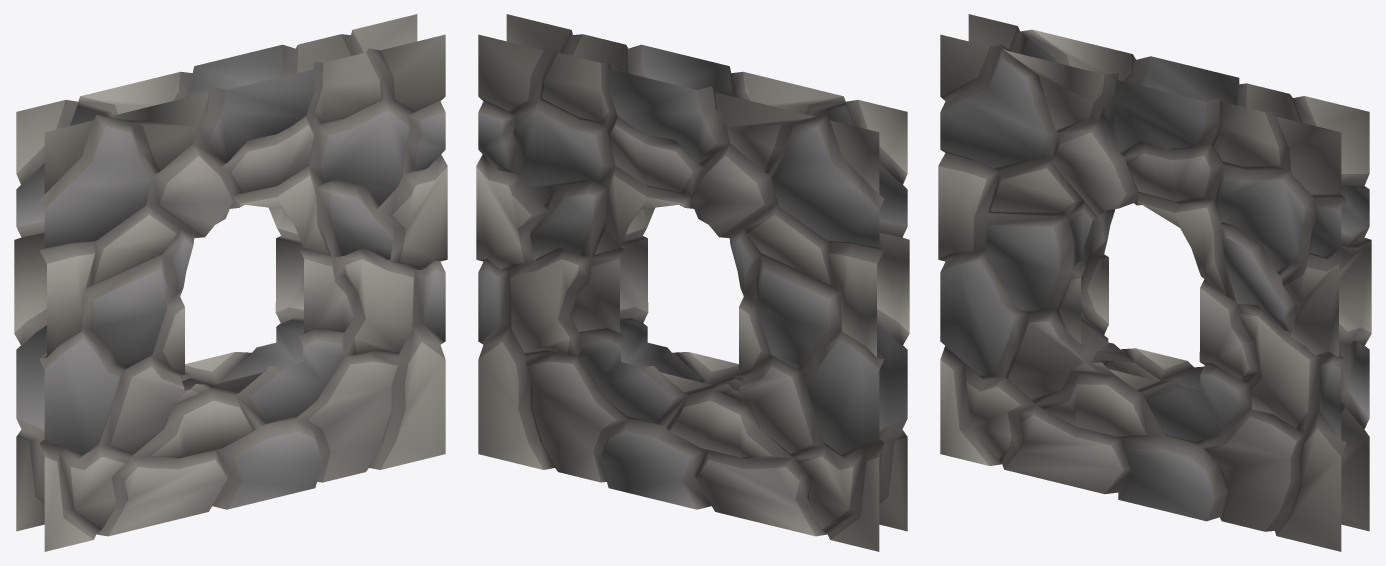
The model's file is rpgpp_ag_wall_03_3x3_window_c.fbx.
3 renders of one model, left to right at view 1: azimuth 30°, elevation 25°; view 2: azimuth 150°, elevation 25°; view 3: azimuth 330°, elevation 25°, orthographic.
Parts seen in each view (by area): view 1: rpgpp_ag_wall_03_3x3_window_c; view 2: rpgpp_ag_wall_03_3x3_window_c; view 3: rpgpp_ag_wall_03_3x3_window_c.
Boxes of the visible parts, x1,y1,x2,y2 form: rpgpp_ag_wall_03_3x3_window_c: (14, 14, 447, 551); rpgpp_ag_wall_03_3x3_window_c: (476, 14, 909, 551); rpgpp_ag_wall_03_3x3_window_c: (938, 14, 1371, 551).
Bounding box in the file's own units: 3 × 3 × 0.4237.
